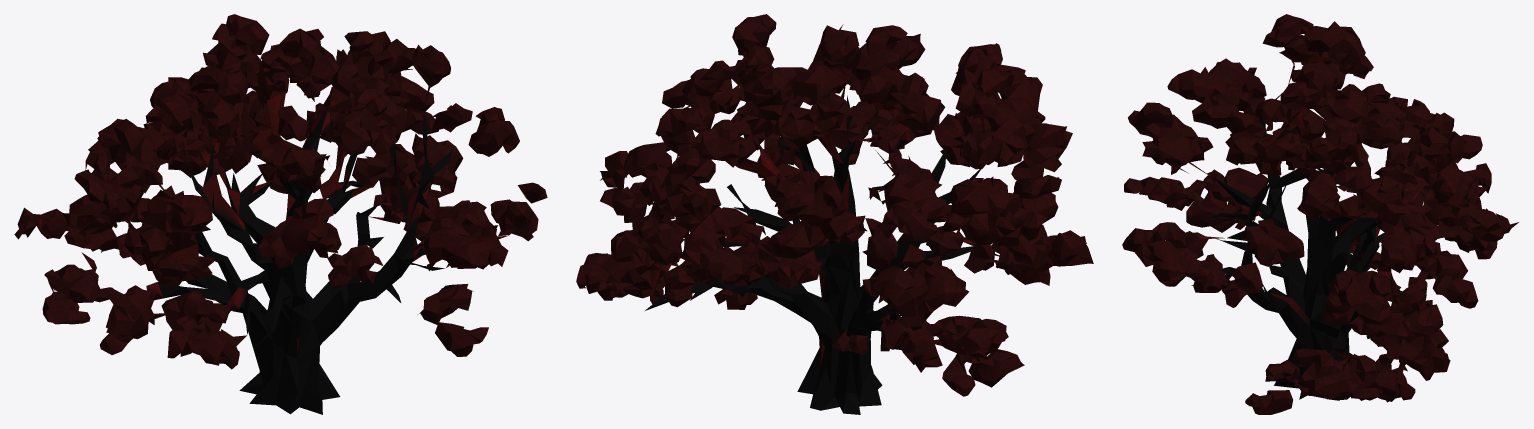
The model's file is tree.glb.
3 views of the same model, side by side, from view 1: azimuth 30°, elevation 25°; view 2: azimuth 150°, elevation 25°; view 3: azimuth 270°, elevation 25° (orthographic). The views are drawn at different scales.
Parts seen in each view (by area): view 1: output_unwrapped; view 2: output_unwrapped; view 3: output_unwrapped.
Part boxes in pixels (x1=…): output_unwrapped: x1=14, y1=14, x2=547, y2=414; output_unwrapped: x1=576, y1=14, x2=1093, y2=414; output_unwrapped: x1=1122, y1=14, x2=1518, y2=414.
Bounding box in the file's own units: 1.87 × 1.57 × 1.65.
1 material, 1 textured.
